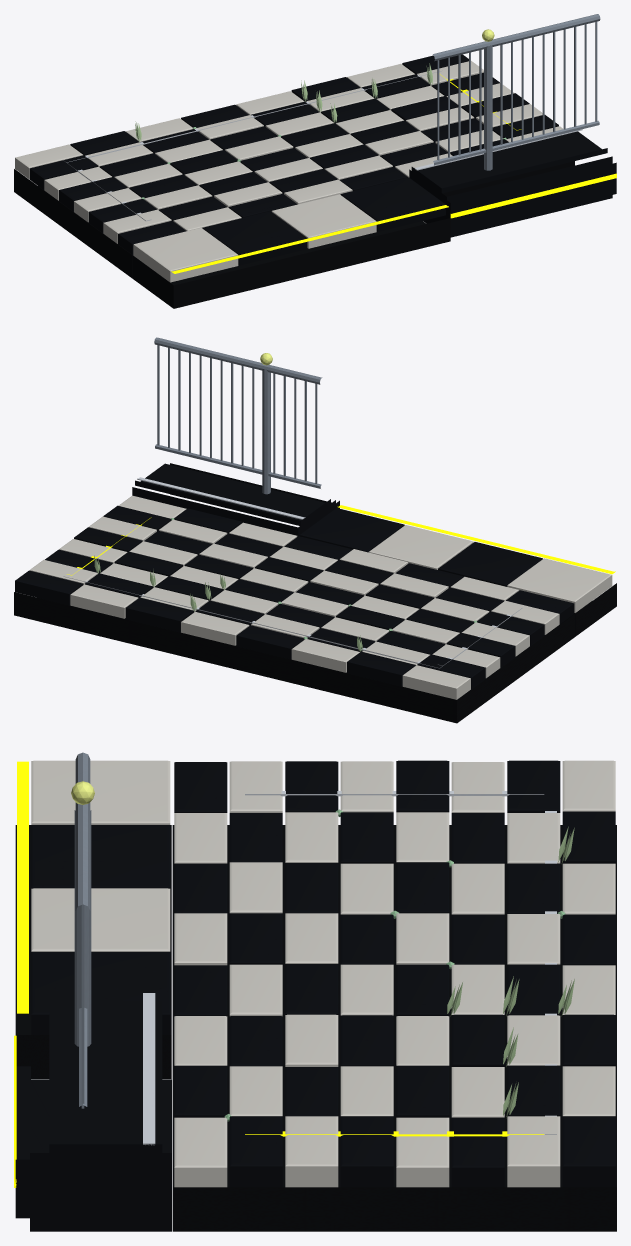
The model's file is tt_terrace_edge_open_w42.glb.
The picture shows the model from 3 angles, top to bottom: view 1: azimuth 30°, elevation 25°; view 2: azimuth 150°, elevation 25°; view 3: azimuth 270°, elevation 25°; orthographic projection. The views are drawn at different scales.
Visible parts, largest first — view 1: Pavers_B, Pavers_A, Coping_Kerb, Threshold_Slab, Guard_Frame, Pavers_A_T, Pavers_B_T, Deck_Slab, Threshold_Amber, Coping_Line, Court_Strips_White, Joint_Tufts; view 2: Pavers_B, Pavers_A, Deck_Slab, Guard_Frame, Coping_Kerb, Pavers_A_T, Pavers_B_T, Threshold_Amber, Threshold_Slab, Court_Strips_White, Coping_Court_Line; view 3: Pavers_B, Pavers_A, Deck_Slab, Coping_Kerb, Pavers_A_T, Pavers_B_T, Guard_Frame, Threshold_Slab, Threshold_Amber, Coping_Court_Line, Joint_Tufts, Court_Strips_White.
Boxes of the visible parts, left/top/right/bottom form: Pavers_B: left=29, top=54, right=558, bottom=254; Pavers_A: left=15, top=61, right=563, bottom=243; Coping_Kerb: left=409, top=131, right=616, bottom=237; Threshold_Slab: left=132, top=218, right=450, bottom=308; Guard_Frame: left=433, top=14, right=600, bottom=170; Pavers_A_T: left=133, top=194, right=376, bottom=282; Pavers_B_T: left=202, top=177, right=445, bottom=265; Deck_Slab: left=14, top=161, right=574, bottom=277; Threshold_Amber: left=171, top=205, right=448, bottom=273; Coping_Line: left=450, top=173, right=616, bottom=218; Court_Strips_White: left=63, top=70, right=442, bottom=221; Joint_Tufts: left=135, top=63, right=432, bottom=141; Pavers_B: left=15, top=505, right=574, bottom=688; Pavers_A: left=29, top=495, right=559, bottom=699; Deck_Slab: left=14, top=592, right=575, bottom=723; Guard_Frame: left=154, top=337, right=322, bottom=494; Coping_Kerb: left=132, top=463, right=339, bottom=536; Pavers_A_T: left=368, top=525, right=612, bottom=612; Pavers_B_T: left=299, top=508, right=542, bottom=586; Threshold_Amber: left=337, top=505, right=615, bottom=574; Threshold_Slab: left=551, top=583, right=616, bottom=636; Court_Strips_White: left=63, top=576, right=522, bottom=668; Coping_Court_Line: left=137, top=477, right=305, bottom=519; Pavers_B: left=174, top=760, right=615, bottom=1187; Pavers_A: left=174, top=760, right=615, bottom=1187; Deck_Slab: left=172, top=825, right=616, bottom=1231; Coping_Kerb: left=15, top=1001, right=171, bottom=1231; Pavers_A_T: left=31, top=760, right=170, bottom=951; Pavers_B_T: left=31, top=825, right=170, bottom=1034; Guard_Frame: left=74, top=752, right=91, bottom=1108; Threshold_Slab: left=15, top=825, right=171, bottom=1078; Threshold_Amber: left=17, top=761, right=28, bottom=1013; Coping_Court_Line: left=143, top=993, right=155, bottom=1145; Joint_Tufts: left=447, top=826, right=574, bottom=1118; Court_Strips_White: left=245, top=791, right=556, bottom=1134.
Size of what is drawn, in the model's own units: 4 by 1.6 by 2.51.
9 materials, 4 textured.
